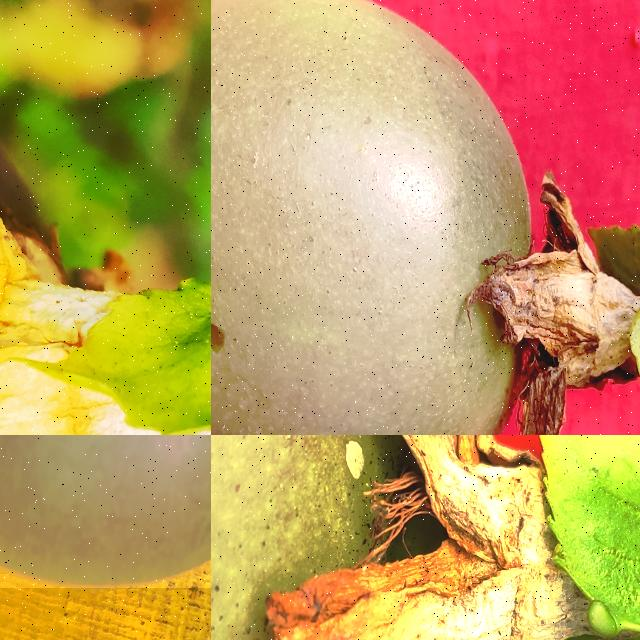Estado-1: (211, 435, 640, 640)
Estado-2: (211, 0, 640, 435)
